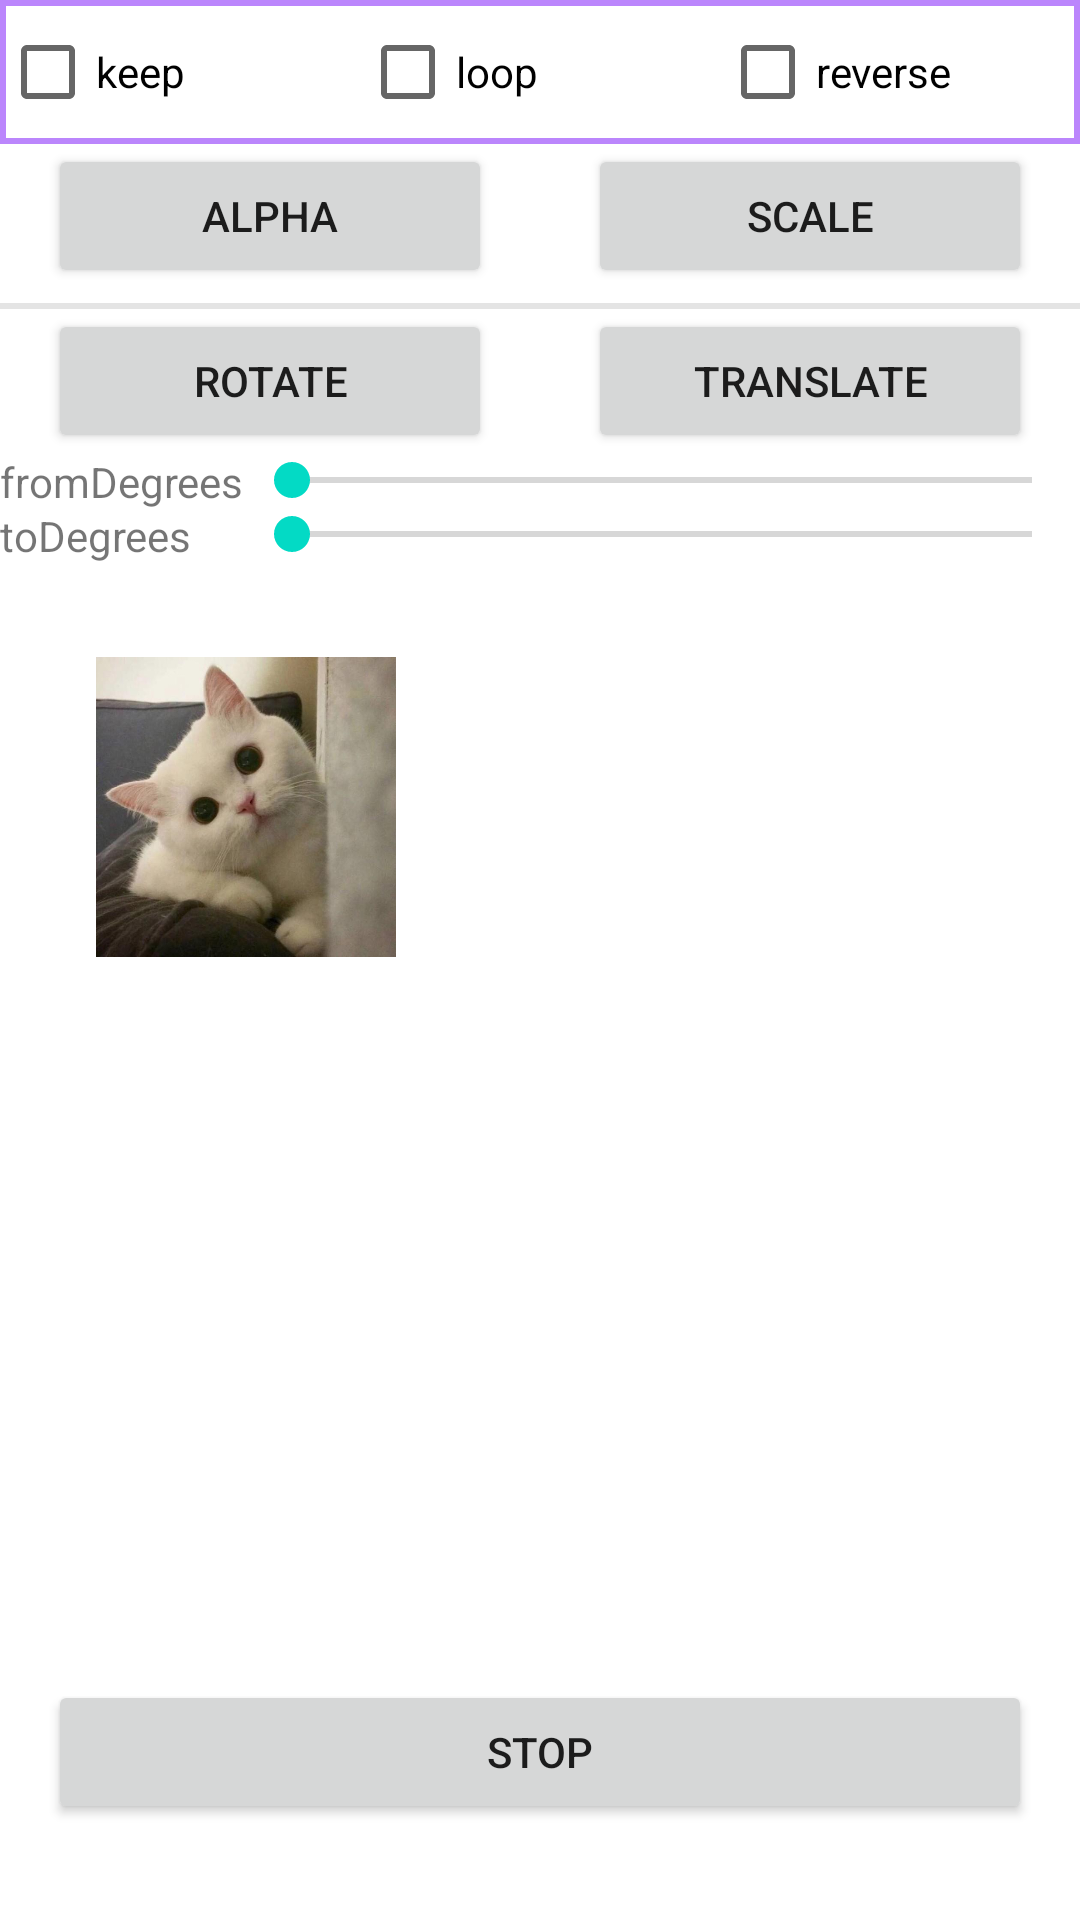

Locate icon controls on the screen. Image size 1080x1920, boxes as (x1, y1, x2, y2).
cat: (96, 657, 396, 957)
